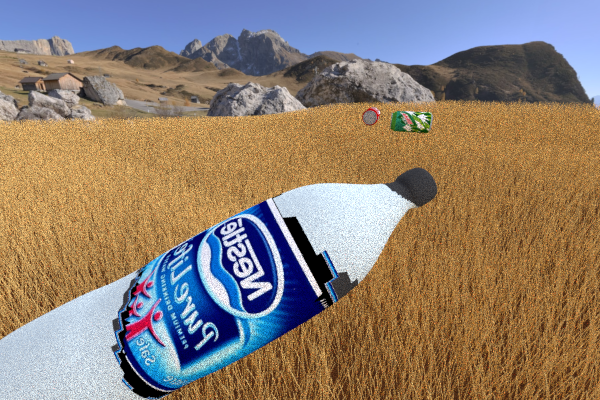bottle: (0, 169, 432, 400)
can: (266, 151, 342, 228), (262, 107, 287, 121)
